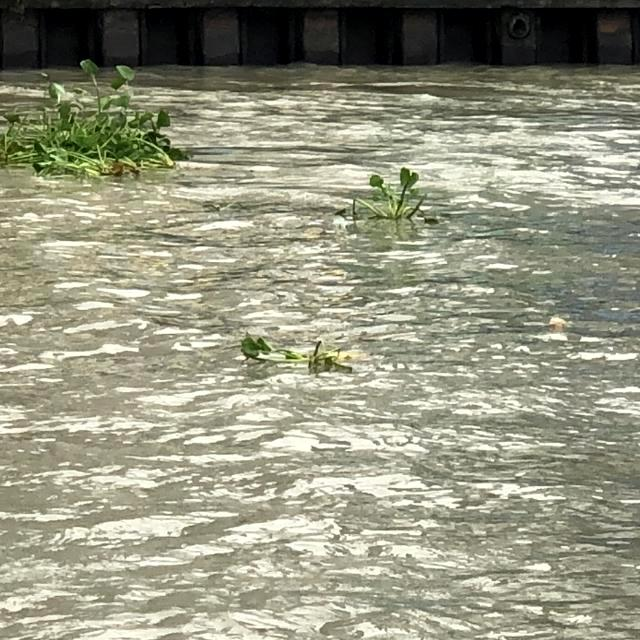water-hyacinth: (1, 57, 183, 182), (240, 332, 362, 378), (346, 168, 430, 226)
